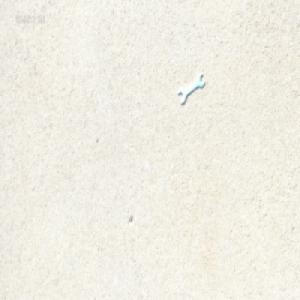Wrench: (176, 71, 202, 104)
